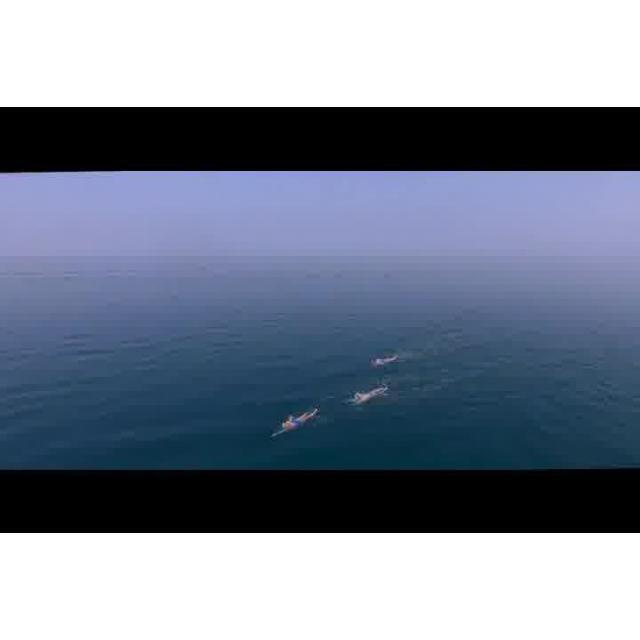human: (272, 404, 319, 441), (348, 386, 387, 407), (371, 354, 395, 367)
